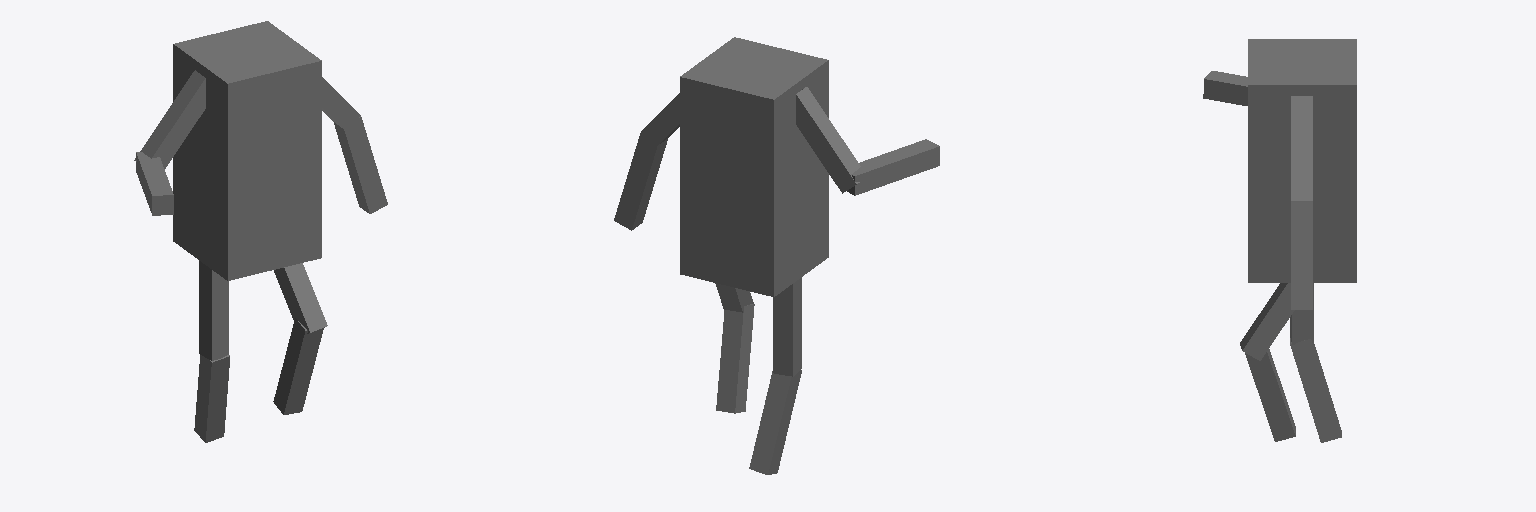
The model's file is Player.obj.
3 renders of one model, left to right at view 1: azimuth 30°, elevation 25°; view 2: azimuth 150°, elevation 25°; view 3: azimuth 270°, elevation 25°, orthographic.
Parts seen in each view (by area): view 1: Player:pasted__pCube2group2; view 2: Player:pasted__pCube2group2; view 3: Player:pasted__pCube2group2.
Part boxes in pixels (bbox=[...]): Player:pasted__pCube2group2: bbox=[134, 21, 387, 442]; Player:pasted__pCube2group2: bbox=[614, 37, 939, 474]; Player:pasted__pCube2group2: bbox=[1203, 39, 1356, 442].
Size of the model in its own units: 0.9532 by 1.29 by 0.4587.